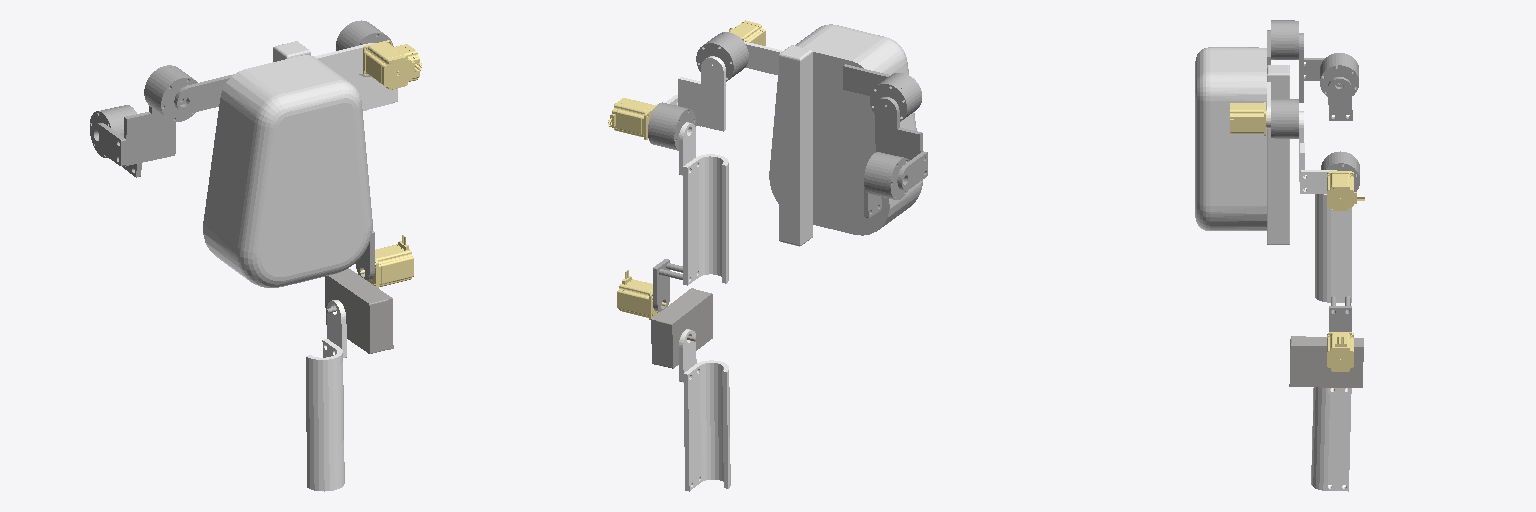
URDF robot description (genos_body):
<?xml version="1.0" encoding="utf-8" ?>
<!-- This URDF was automatically created by SolidWorks to URDF Exporter! Originally created by [author] ([email redacted]) 
     Commit Version: 1.6.0-1-g15f4949  Build Version: 1.6.7594.29634
     For more information, please see http://wiki.ros.org/sw_urdf_exporter -->
<robot name="genos_body">
    <link name="world" />
    <link name="base_link">
        
<inertial>
            <origin xyz="0.0656377277619113 -0.0449999999999988 2.29266261721715" rpy="0 0 0" />
            <mass value="0.186774887849971" />
            <inertia ixx="4.06423980219236E-05" ixy="-2.18634005648185E-20" ixz="1.87637236736056E-14" iyy="0.000347485975348893" iyz="-2.34800063185349E-20" izz="0.000309956492124469" />
        </inertial>

        <visual>
            <origin xyz="0 0 0" rpy="0 0 0" />
            <geometry>
                <mesh filename="package://genos_body/meshes/base_link.STL" />
            </geometry>
            <material name="">
                <color rgba="0.996078431372549 0.996078431372549 1 1" />
            </material>
        </visual>
        <collision>
            <origin xyz="0 0 0" rpy="0 0 0" />
            <geometry>
                <mesh filename="package://genos_body/meshes/base_link.STL" />
            </geometry>
        </collision>
    </link>
    <joint name="world_joint" type="fixed">
        <parent link="world" />
        <child link="base_link" />
    </joint>
    <link name="bag">
        
<inertial>
            <origin xyz="0.116612594866228 0.195115283964584 -0.0281532798798317" rpy="0 0 0" />
            <mass value="22.0317913303056" />
            <inertia ixx="0.329325495700432" ixy="0.000742015525740789" ixz="0.00851839270743643" iyy="0.151585577390128" iyz="0.00424011756727731" izz="0.282391392384893" />
        </inertial>

        <visual>
            <origin xyz="0 0 0" rpy="0 0 0" />
            <geometry>
                <mesh filename="package://genos_body/meshes/bag.STL" />
            </geometry>
            <material name="">
                <color rgba="0.92156862745098 0.92156862745098 0.92156862745098 1" />
            </material>
        </visual>
        <collision>
            <origin xyz="0 0 0" rpy="0 0 0" />
            <geometry>
                <mesh filename="package://genos_body/meshes/bag.STL" />
            </geometry>
        </collision>
    </link>
    <joint name="bag_fixed" type="fixed">
        <origin xyz="-0.048 0 2.3361" rpy="-1.5708 0 -1.5708" />
        <parent link="base_link" />
        <child link="bag" />
        <axis xyz="0 0 0" />
    </joint>
    <link name="other_arm">
        
<inertial>
            <origin xyz="0.065833448779935 -0.00758303000363519 -0.0333351207291052" rpy="0 0 0" />
            <mass value="1.15961583971126" />
            <inertia ixx="0.000780039308307398" ixy="-1.35736011166873E-05" ixz="1.84892465150726E-06" iyy="0.00107740234627636" iyz="1.29276462197406E-07" izz="0.00134584573900668" />
        </inertial>

        <visual>
            <origin xyz="0 0 0" rpy="0 0 0" />
            <geometry>
                <mesh filename="package://genos_body/meshes/other_arm.STL" />
            </geometry>
            <material name="">
                <color rgba="0.752941176470588 0.752941176470588 0.752941176470588 1" />
            </material>
        </visual>
        <collision>
            <origin xyz="0 0 0" rpy="0 0 0" />
            <geometry>
                <mesh filename="package://genos_body/meshes/other_arm.STL" />
            </geometry>
        </collision>
    </link>
    <joint name="other_arm_fixed" type="fixed">
        <origin xyz="0 0.03972 -0.20528" rpy="1.5708 0.097223 1.5708" />
        <parent link="bag" />
        <child link="other_arm" />
        <axis xyz="0 0 0" />
    </joint>
    <link name="nema_1">
        
<inertial>
            <origin xyz="1.07363007373351E-11 0.038244189460183 0.00022042085092866" rpy="0 0 0" />
            <mass value="0.21993736848337" />
            <inertia ixx="9.35780461342043E-05" ixy="-1.36945188469242E-16" ixz="3.91021599793746E-14" iyy="9.83529316218501E-05" iyz="2.01529706335941E-09" izz="9.30083454728926E-05" />
        </inertial>

        <visual>
            <origin xyz="0 0 0" rpy="0 0 0" />
            <geometry>
                <mesh filename="package://genos_body/meshes/nema_1.STL" />
            </geometry>
            <material name="">
                <color rgba="1 0.945098039215686 0.694117647058824 1" />
            </material>
        </visual>
        <collision>
            <origin xyz="0 0 0" rpy="0 0 0" />
            <geometry>
                <mesh filename="package://genos_body/meshes/nema_1.STL" />
            </geometry>
        </collision>
    </link>
    <joint name="nema_1_fixed" type="fixed">
        <origin xyz="0.13105 -0.1275 2.2927" rpy="0 1.5708 0" />
        <parent link="base_link" />
        <child link="nema_1" />
        <axis xyz="0 0 0" />
    </joint>
    <link name="gearbox_1">
        
<inertial>
            <origin xyz="8.33111357678717E-13 -0.00999411954819123 7.9219963922128E-13" rpy="0 0 0" />
            <mass value="0.202841956021701" />
            <inertia ixx="0.000147864258182956" ixy="-9.67553713072785E-15" ixz="0" iyy="0.000254396862103912" iyz="-9.20447502631052E-15" izz="0.000147864258182956" />
        </inertial>

        <visual>
            <origin xyz="0 0 0" rpy="0 0 0" />
            <geometry>
                <mesh filename="package://genos_body/meshes/gearbox_1.STL" />
            </geometry>
            <material name="">
                <color rgba="0.749019607843137 0.749019607843137 0.749019607843137 1" />
            </material>
        </visual>
        <collision>
            <origin xyz="0 0 0" rpy="0 0 0" />
            <geometry>
                <mesh filename="package://genos_body/meshes/gearbox_1.STL" />
            </geometry>
        </collision>
    </link>
    <joint name="gearbox_1_fixed" type="fixed">
        <origin xyz="0.13105 0 2.2927" rpy="0 -1.3187 0" />
        <parent link="base_link" />
        <child link="gearbox_1" />
        <axis xyz="0 0 0" />
    </joint>
    <link name="link_1">
        
<inertial>
            <origin xyz="0.077727473357013 0.0249999999893867 0.0050000000405879" rpy="0 0 0" />
            <mass value="0.194782225878588" />
            <inertia ixx="4.09206234646084E-05" ixy="4.21055016399653E-14" ixz="-3.72141548439145E-14" iyy="0.000343091980251374" iyz="-2.29864194529837E-15" izz="0.000380766233284672" />
        </inertial>

        <visual>
            <origin xyz="0 0 0" rpy="0 0 0" />
            <geometry>
                <mesh filename="package://genos_body/meshes/link_1.STL" />
            </geometry>
            <material name="">
                <color rgba="0.996078431372549 0.996078431372549 1 1" />
            </material>
        </visual>
        <collision>
            <origin xyz="0 0 0" rpy="0 0 0" />
            <geometry>
                <mesh filename="package://genos_body/meshes/link_1.STL" />
            </geometry>
        </collision>
    </link>
    <joint name="link_1_rev" type="revolute">
        <origin xyz="0.0082896 0.029 0.027951" rpy="-1.5708 0.25211 3.1416" />
        <parent link="gearbox_1" />
        <child link="link_1" />
        <axis xyz="0 0 -1" />
        <limit lower="-1.57" upper="0" effort="20" velocity="20" />
    </joint>
    <link name="link_1_1">
        
<inertial>
            <origin xyz="0.0352753895613827 0.0104130843759721 -0.0149917618152269" rpy="0 0 0" />
            <mass value="0.236487383770919" />
            <inertia ixx="0.000106071859790685" ixy="6.80366201844013E-15" ixz="2.87145084431375E-15" iyy="0.000185828354640971" iyz="-1.26571308308291E-14" izz="0.000132297951246468" />
        </inertial>

        <visual>
            <origin xyz="0 0 0" rpy="0 0 0" />
            <geometry>
                <mesh filename="package://genos_body/meshes/link_1_1.STL" />
            </geometry>
            <material name="">
                <color rgba="0.996078431372549 0.996078431372549 1 1" />
            </material>
        </visual>
        <collision>
            <origin xyz="0 0 0" rpy="0 0 0" />
            <geometry>
                <mesh filename="package://genos_body/meshes/link_1_1.STL" />
            </geometry>
        </collision>
    </link>
    <joint name="link_1_1_fixed" type="fixed">
        <origin xyz="0.15 0.1 -0.002" rpy="0 0 3.1416" />
        <parent link="link_1" />
        <child link="link_1_1" />
        <axis xyz="0 0 0" />
    </joint>
    <link name="nema_2">
        
<inertial>
            <origin xyz="3.83484355381825E-11 0.0382441894640014 0.000220420809023084" rpy="0 0 0" />
            <mass value="0.219937368483371" />
            <inertia ixx="9.35780461342048E-05" ixy="-8.02116064078345E-16" ixz="3.90793300601243E-14" iyy="9.83529316218502E-05" iyz="2.01529738947543E-09" izz="9.30083454728932E-05" />
        </inertial>

        <visual>
            <origin xyz="0 0 0" rpy="0 0 0" />
            <geometry>
                <mesh filename="package://genos_body/meshes/nema_2.STL" />
            </geometry>
            <material name="">
                <color rgba="1 0.945098039215686 0.694117647058824 1" />
            </material>
        </visual>
        <collision>
            <origin xyz="0 0 0" rpy="0 0 0" />
            <geometry>
                <mesh filename="package://genos_body/meshes/nema_2.STL" />
            </geometry>
        </collision>
    </link>
    <joint name="nema_2_fixed" type="fixed">
        <origin xyz="0.025 -0.0875 -0.075" rpy="3.1416 0 3.1416" />
        <parent link="link_1_1" />
        <child link="nema_2" />
        <axis xyz="0 0 0" />
    </joint>
    <link name="gearbox_2">
        
<inertial>
            <origin xyz="4.95667951128098E-11 0.0300058804556396 9.70779012732237E-12" rpy="0 0 0" />
            <mass value="0.202841956021701" />
            <inertia ixx="0.000147864258182956" ixy="-1.12657922086736E-14" ixz="-6.7762635780344E-21" iyy="0.000254396862103912" iyz="-1.16488077441934E-14" izz="0.000147864258182956" />
        </inertial>

        <visual>
            <origin xyz="0 0 0" rpy="0 0 0" />
            <geometry>
                <mesh filename="package://genos_body/meshes/gearbox_2.STL" />
            </geometry>
            <material name="">
                <color rgba="0.749019607843137 0.749019607843137 0.749019607843137 1" />
            </material>
        </visual>
        <collision>
            <origin xyz="0 0 0" rpy="0 0 0" />
            <geometry>
                <mesh filename="package://genos_body/meshes/gearbox_2.STL" />
            </geometry>
        </collision>
    </link>
    <joint name="gearbox_2_fixed" type="fixed">
        <origin xyz="0.025 0 -0.075" rpy="3.1416 -1.2148 3.1416" />
        <parent link="link_1_1" />
        <child link="gearbox_2" />
        <axis xyz="0 0 0" />
    </joint>
    <link name="link_2">
        
<inertial>
            <origin xyz="0.188394539937194 0.00184830238674999 -0.022139553307787" rpy="0 0 0" />
            <mass value="1.04642759595816" />
            <inertia ixx="0.000963429119729058" ixy="-3.57477112731684E-13" ixz="6.29360349273006E-13" iyy="0.00534113625498724" iyz="-0.000253176879944689" izz="0.0053462667634848" />
        </inertial>

        <visual>
            <origin xyz="0 0 0" rpy="0 0 0" />
            <geometry>
                <mesh filename="package://genos_body/meshes/link_2.STL" />
            </geometry>
            <material name="">
                <color rgba="0.996078431372549 0.996078431372549 1 1" />
            </material>
        </visual>
        <collision>
            <origin xyz="0 0 0" rpy="0 0 0" />
            <geometry>
                <mesh filename="package://genos_body/meshes/link_2.STL" />
            </geometry>
        </collision>
    </link>
    <joint name="link_2_rev" type="revolute">
        <origin xyz="0.018205 0.069 -0.022772" rpy="1.5708 -1.2148 0" />
        <parent link="gearbox_2" />
        <child link="link_2" />
        <axis xyz="0 0 1" />
        <limit lower="0" upper="1.57" effort="20" velocity="20" />
    </joint>
    <link name="link_2_1">
        
<inertial>
            <origin xyz="-0.0340527973502005 0.016875321642003 -0.0328885455408666" rpy="0 0 0" />
            <mass value="0.118926843670707" />
            <inertia ixx="5.78725098312375E-05" ixy="2.7033470267572E-05" ixz="-3.68414378113843E-13" iyy="4.91005694314973E-05" iyz="8.13374718687384E-13" izz="0.000102923508335283" />
        </inertial>

        <visual>
            <origin xyz="0 0 0" rpy="0 0 0" />
            <geometry>
                <mesh filename="package://genos_body/meshes/link_2_1.STL" />
            </geometry>
            <material name="">
                <color rgba="0.749019607843137 0.749019607843137 0.749019607843137 1" />
            </material>
        </visual>
        <collision>
            <origin xyz="0 0 0" rpy="0 0 0" />
            <geometry>
                <mesh filename="package://genos_body/meshes/link_2_1.STL" />
            </geometry>
        </collision>
    </link>
    <joint name="link_2_1_fixed" type="fixed">
        <origin xyz="0.32 0.04 0.028" rpy="3.1416 0 2.2758" />
        <parent link="link_2" />
        <child link="link_2_1" />
        <axis xyz="0 0 0" />
    </joint>
    <link name="nema_3">
        
<inertial>
            <origin xyz="-9.35690691594715E-11 -0.038244189457463 -0.000220420822295786" rpy="0 0 0" />
            <mass value="0.219937368483371" />
            <inertia ixx="9.35780461342047E-05" ixy="-4.45382084497665E-16" ixz="-3.91807927685863E-14" iyy="9.83529316218499E-05" iyz="2.01529780817109E-09" izz="9.30083454728933E-05" />
        </inertial>

        <visual>
            <origin xyz="0 0 0" rpy="0 0 0" />
            <geometry>
                <mesh filename="package://genos_body/meshes/nema_3.STL" />
            </geometry>
            <material name="">
                <color rgba="1 0.945098039215686 0.694117647058824 1" />
            </material>
        </visual>
        <collision>
            <origin xyz="0 0 0" rpy="0 0 0" />
            <geometry>
                <mesh filename="package://genos_body/meshes/nema_3.STL" />
            </geometry>
        </collision>
    </link>
    <joint name="nema_3_fixed" type="fixed">
        <origin xyz="-0.060026 0.047402 -0.1165" rpy="-1.5708 0 0.70498" />
        <parent link="link_2_1" />
        <child link="nema_3" />
        <axis xyz="0 0 0" />
    </joint>
    <link name="gearbox_3">
        
<inertial>
            <origin xyz="0.0142292691059915 -0.0291483328733935 -0.00199341574787516" rpy="0 0 0" />
            <mass value="0.455824436468215" />
            <inertia ixx="0.00130949343089516" ixy="2.63791727616474E-06" ixz="1.80391519762986E-07" iyy="0.000413534576545518" iyz="-3.75734006176589E-05" izz="0.000960258974633516" />
        </inertial>

        <visual>
            <origin xyz="0 0 0" rpy="0 0 0" />
            <geometry>
                <mesh filename="package://genos_body/meshes/gearbox_3.STL" />
            </geometry>
            <material name="">
                <color rgba="0.745098039215686 0.737254901960784 0.729411764705882 1" />
            </material>
        </visual>
        <collision>
            <origin xyz="0 0 0" rpy="0 0 0" />
            <geometry>
                <mesh filename="package://genos_body/meshes/gearbox_3.STL" />
            </geometry>
        </collision>
    </link>
    <joint name="gearbox_3_fixed" type="fixed">
        <origin xyz="-0.098016 0.092052 0.0090658" rpy="0.77327 1.5708 0" />
        <parent link="link_2_1" />
        <child link="gearbox_3" />
        <axis xyz="0 0 0" />
    </joint>
    <link name="link_3">
        
<inertial>
            <origin xyz="0.173394539943381 -0.0231516976717898 -0.0321395533095599" rpy="0 0 0" />
            <mass value="1.04642759595816" />
            <inertia ixx="0.00096342911972906" ixy="-3.37833117012798E-13" ixz="6.28226274078858E-13" iyy="0.00534113625501816" iyz="-0.000253176879945003" izz="0.00534626676345392" />
        </inertial>

        <visual>
            <origin xyz="0 0 0" rpy="0 0 0" />
            <geometry>
                <mesh filename="package://genos_body/meshes/link_3.STL" />
            </geometry>
            <material name="">
                <color rgba="0.996078431372549 0.996078431372549 1 1" />
            </material>
        </visual>
        <collision>
            <origin xyz="0 0 0" rpy="0 0 0" />
            <geometry>
                <mesh filename="package://genos_body/meshes/link_3.STL" />
            </geometry>
        </collision>
    </link>
    <joint name="link_3_rev" type="revolute">
        <origin xyz="-0.008936 0 0" rpy="1.5708 1.501705 1.5708" />
        <parent link="gearbox_3" />
        <child link="link_3" />
        <axis xyz="0 0 1" />
        <limit lower="0" upper="1.57" effort="20" velocity="20" />
    </joint>
    
<transmission name="trans_link_1_rev">
        <type>transmission_interface/SimpleTransmission</type>
        <joint name="link_1_rev">
            <hardwareInterface>hardware_interface/PositionJointInterface</hardwareInterface>
        </joint>
        <actuator name="link_1_rev_motor">
            <hardwareInterface>hardware_interface/PositionJointInterface</hardwareInterface>
            <mechanicalReduction>1</mechanicalReduction>
        </actuator>
    </transmission>
    <transmission name="trans_link_2_rev">
        <type>transmission_interface/SimpleTransmission</type>
        <joint name="link_2_rev">
            <hardwareInterface>hardware_interface/PositionJointInterface</hardwareInterface>
        </joint>
        <actuator name="link_2_rev_motor">
            <hardwareInterface>hardware_interface/PositionJointInterface</hardwareInterface>
            <mechanicalReduction>1</mechanicalReduction>
        </actuator>
    </transmission>
    <transmission name="trans_link_3_rev">
        <type>transmission_interface/SimpleTransmission</type>
        <joint name="link_3_rev">
            <hardwareInterface>hardware_interface/PositionJointInterface</hardwareInterface>
        </joint>
        <actuator name="link_3_rev_motor">
            <hardwareInterface>hardware_interface/PositionJointInterface</hardwareInterface>
            <mechanicalReduction>1</mechanicalReduction>
        </actuator>
    </transmission>
    <gazebo>
        <plugin name="gazebo_ros_control" filename="libgazebo_ros_control.so">
            <robotNamespace>/</robotNamespace>
        </plugin>
    </gazebo>
</robot>

--- Render facts (derived) ---
3 views of the same robot in one strip: view 1: azimuth 30°, elevation 25°; view 2: azimuth 150°, elevation 25°; view 3: azimuth 270°, elevation 25° (orthographic).
Model genos_body with 15 links and 14 joints (3 revolute, 11 fixed), rooted at world, posed every joint at zero.
Links seen in each view (by area): view 1: bag, other_arm, link_3, gearbox_3, nema_1, nema_3, base_link, gearbox_1, link_1_1, link_2_1; view 2: bag, other_arm, link_2, link_3, gearbox_3, link_1, gearbox_2, gearbox_1, nema_2, nema_3, link_2_1, link_1_1 (+2 smaller); view 3: bag, other_arm, link_3, link_2, gearbox_3, nema_1, gearbox_1, nema_2, nema_3, link_1_1, gearbox_2, link_2_1.
Boxes of the visible links, left/top/right/bottom form: bag: left=203, top=41, right=372, bottom=287; other_arm: left=90, top=65, right=233, bottom=177; link_3: left=306, top=300, right=346, bottom=491; gearbox_3: left=325, top=268, right=393, bottom=353; nema_1: left=363, top=40, right=421, bottom=89; nema_3: left=360, top=235, right=413, bottom=288; base_link: left=314, top=43, right=373, bottom=77; gearbox_1: left=336, top=20, right=393, bottom=76; link_1_1: left=369, top=77, right=397, bottom=108; link_2_1: left=355, top=230, right=374, bottom=279; bag: left=769, top=24, right=922, bottom=246; other_arm: left=843, top=64, right=927, bottom=217; link_2: left=679, top=122, right=728, bottom=285; link_3: left=679, top=329, right=730, bottom=491; gearbox_3: left=651, top=288, right=712, bottom=368; link_1: left=701, top=56, right=725, bottom=131; gearbox_2: left=648, top=102, right=695, bottom=150; gearbox_1: left=696, top=32, right=748, bottom=81; nema_2: left=608, top=98, right=657, bottom=139; nema_3: left=617, top=270, right=666, bottom=319; link_2_1: left=653, top=259, right=682, bottom=311; link_1_1: left=665, top=77, right=700, bottom=126; bag: left=1195, top=47, right=1289, bottom=244; other_arm: left=1267, top=20, right=1358, bottom=120; link_3: left=1311, top=387, right=1351, bottom=491; link_2: left=1315, top=194, right=1351, bottom=302; gearbox_3: left=1289, top=336, right=1363, bottom=387; nema_1: left=1230, top=102, right=1266, bottom=135; gearbox_1: left=1271, top=99, right=1298, bottom=138; nema_2: left=1327, top=171, right=1364, bottom=210; nema_3: left=1327, top=332, right=1353, bottom=371; link_1_1: left=1300, top=143, right=1336, bottom=193; gearbox_2: left=1321, top=151, right=1359, bottom=191; link_2_1: left=1329, top=296, right=1351, bottom=334.
Size in the robot's own frame: 0.6355 by 0.3565 by 0.9094 metres.
Meshes: 14 distinct files referenced, 14 mesh visuals loaded (14 binary STL).
